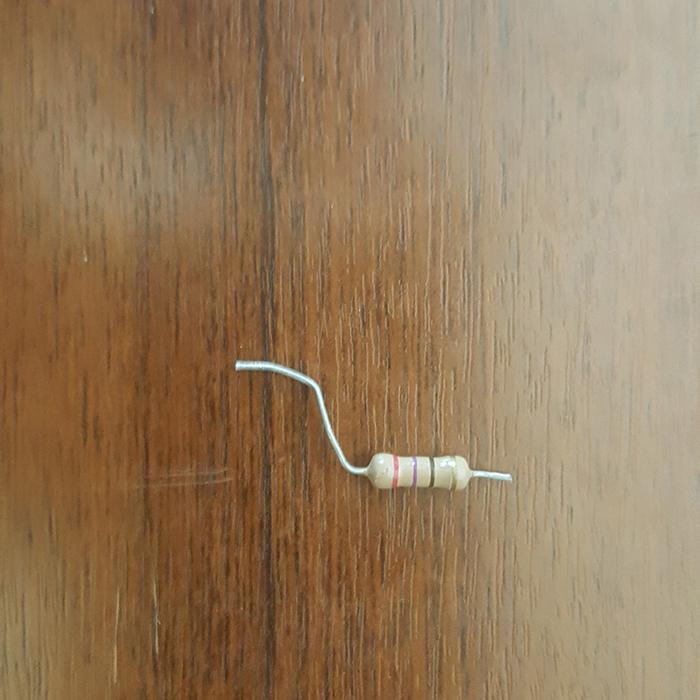resistor: (363, 452, 483, 491)
